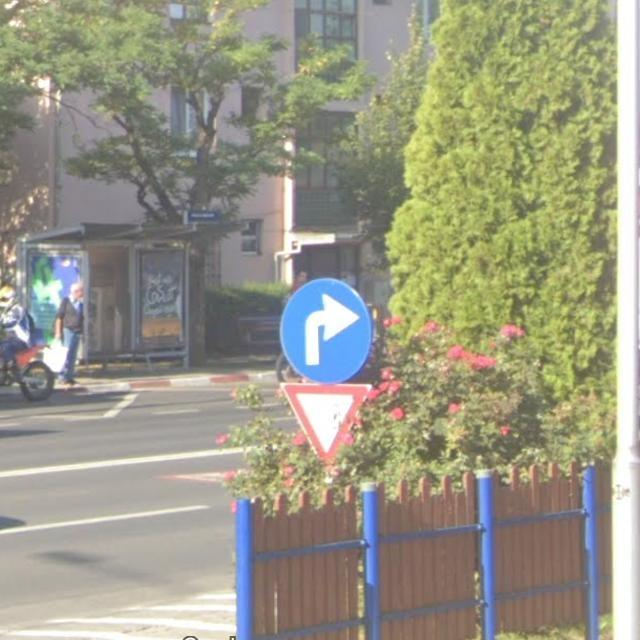prio_give_way: (281, 381, 373, 465)
